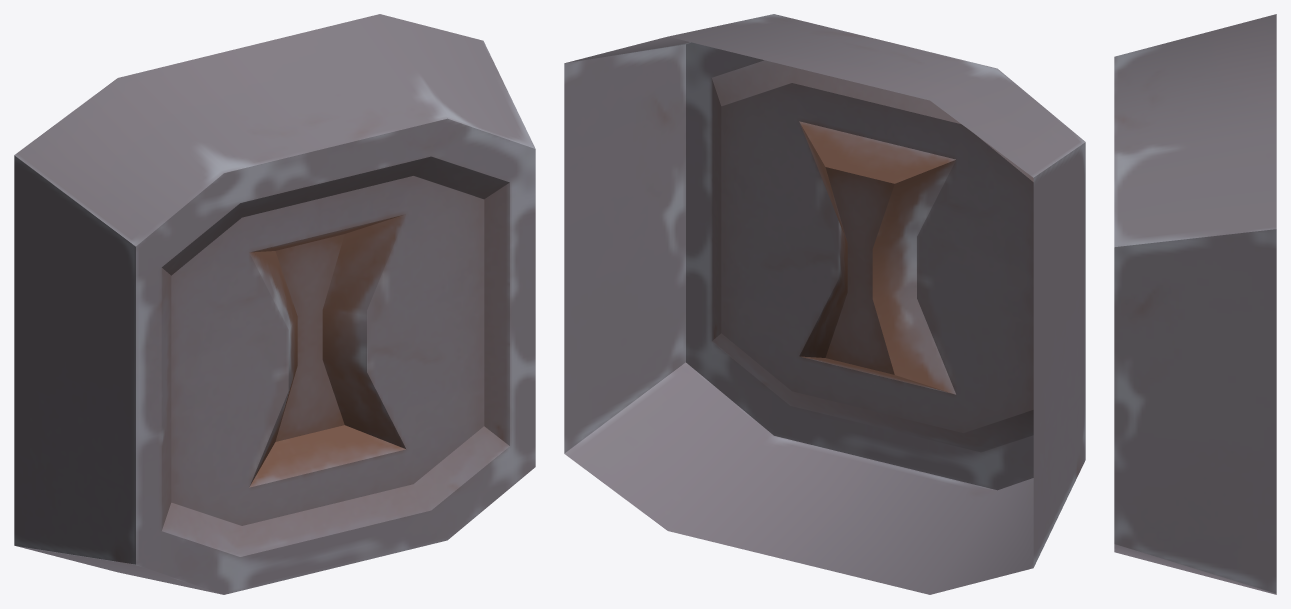
The model's file is Parts_Handle_KeyHole.fbx.
3 renders of one model, left to right at view 1: azimuth 30°, elevation 25°; view 2: azimuth 150°, elevation 25°; view 3: azimuth 270°, elevation 25°, orthographic. The views are drawn at different scales.
Parts seen in each view (by area): view 1: Parts_Handle_KeyHole; view 2: Parts_Handle_KeyHole; view 3: Parts_Handle_KeyHole.
Boxes of the visible parts, <box> form: Parts_Handle_KeyHole: <box>14,14,535,594</box>; Parts_Handle_KeyHole: <box>564,14,1085,594</box>; Parts_Handle_KeyHole: <box>1114,14,1276,594</box>.
Size of the model in its own units: 15.36 by 15.46 by 4.93.
